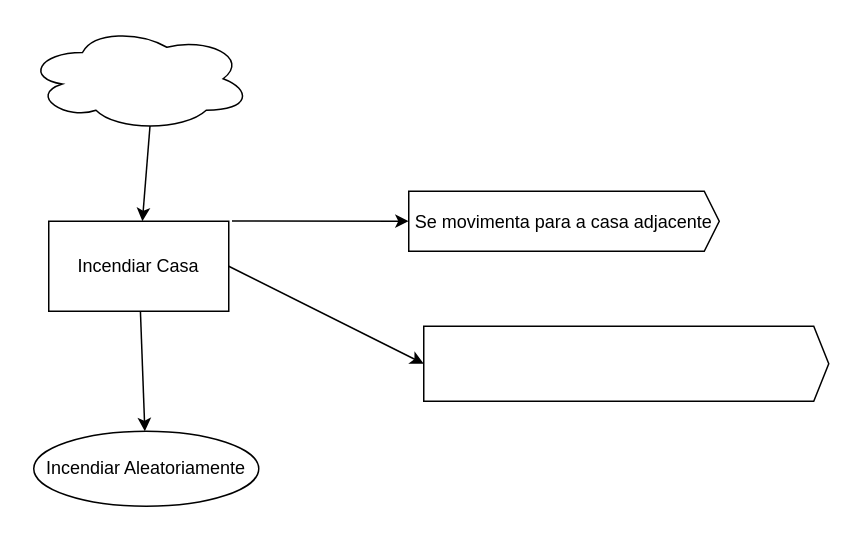
Some shapes in this 855 by 533 pixel diagram are drawn without their labels. The centre of each missing label's shape, as x and y in pixels:
As vezes, incendeia uma casa desocupada: the point at 625,363
Percebe Casa não incendiada: the point at 138,78
